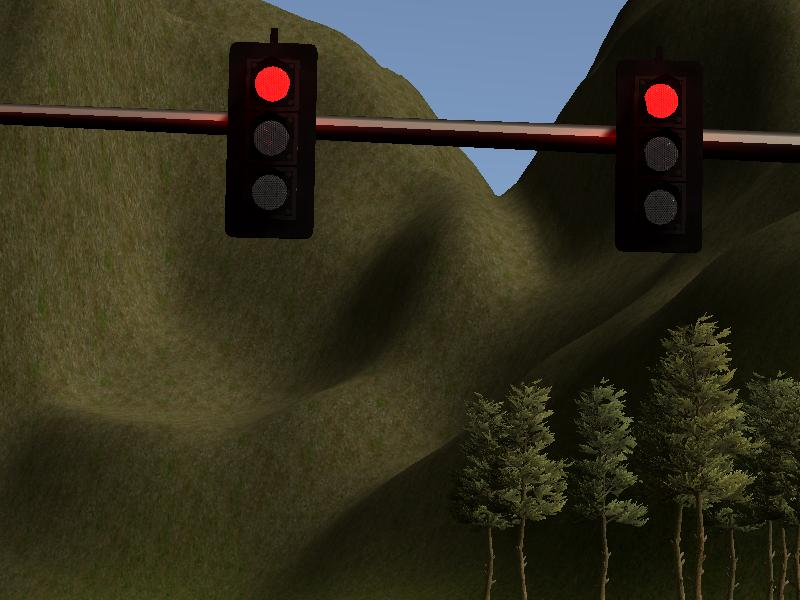Red: (617, 58, 700, 254), (229, 43, 312, 238)
